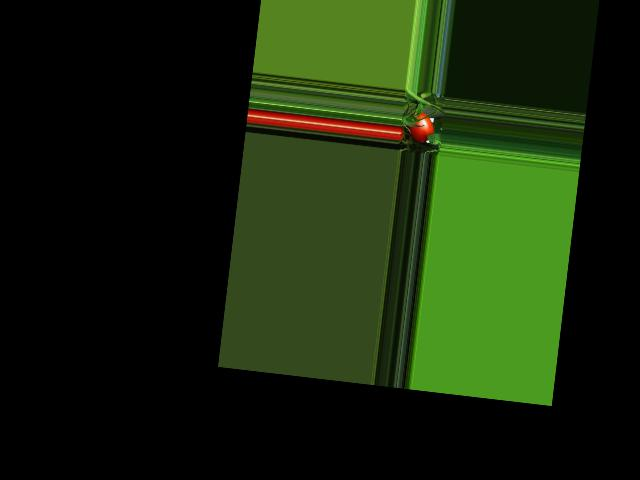tomato: (406, 111, 435, 144)
